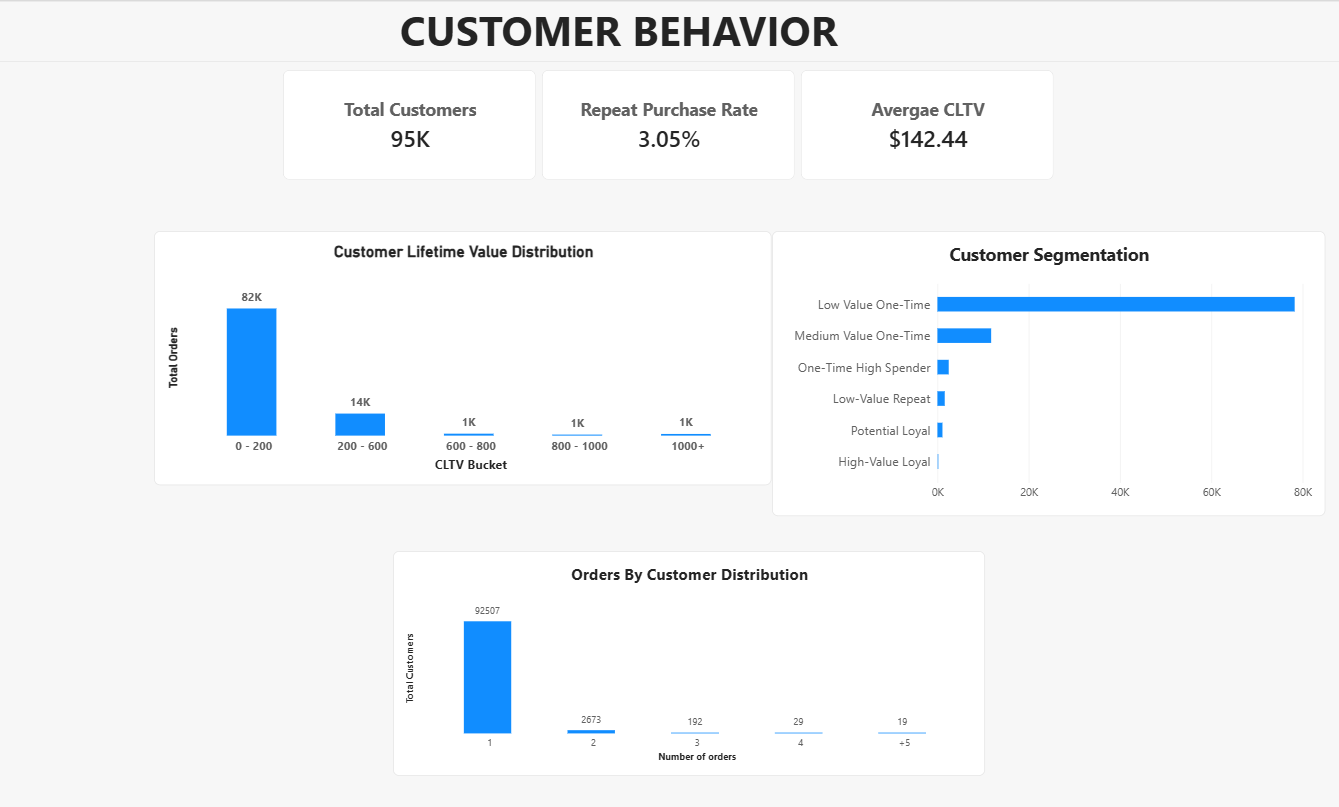

The page's visual inventory and layout, read from the dashboard file:
{"tool":"powerbi","page":{"name":"Customers","canvas":[1920,1080],"ordinal":1},"visuals":[{"type":"cardVisual","fields":{"Data":["fct_orders.Executive - Total Customers","fct_orders.Customer - Repeat Purchase Rate","fct_orders.Customer - Avergae CLTV"]},"box":[521,89.2,999.3,142.8],"z":0},{"type":"textbox","box":[0,0,1920,78.7],"z":1000},{"type":"columnChart","title":"Customer Lifetime Value Distribution","fields":{"Category":["dim_customers.CLTV Bucket"],"Y":["fct_orders._Overview-Total Orders"]},"box":[355.1,298,799.5,328.7],"z":2000},{"type":"clusteredBarChart","title":"Customer Segmentation","fields":{"Category":["dim_customers.Customer Segment"],"Y":["fct_orders._Overview - Total Customers"]},"box":[1154.5,298,715.5,369.4],"z":3000},{"type":"columnChart","title":"Orders By Customer Distribution","fields":{"Category":["dim_customers.order_count_labels"],"Y":["fct_orders._Overview - Total Customers"]},"box":[664,711,766,291],"z":3001}]}

Visuals, with their boxes on the page's 1920x1080 design canvas (x1, y1, x2, y2). These are canvas units, not pixel positions in the 1339x807 screenshot, which may show the page scaled, cropped or inside an application window:
cardVisual - fct_orders.Executive - Total Customers x fct_orders.Customer - Repeat Purchase Rate: (left=521, top=89, right=1520, bottom=232)
textbox: (left=0, top=0, right=1920, bottom=79)
"Customer Lifetime Value Distribution" columnChart: (left=355, top=298, right=1155, bottom=627)
"Customer Segmentation" clusteredBarChart: (left=1154, top=298, right=1870, bottom=667)
"Orders By Customer Distribution" columnChart: (left=664, top=711, right=1430, bottom=1002)
